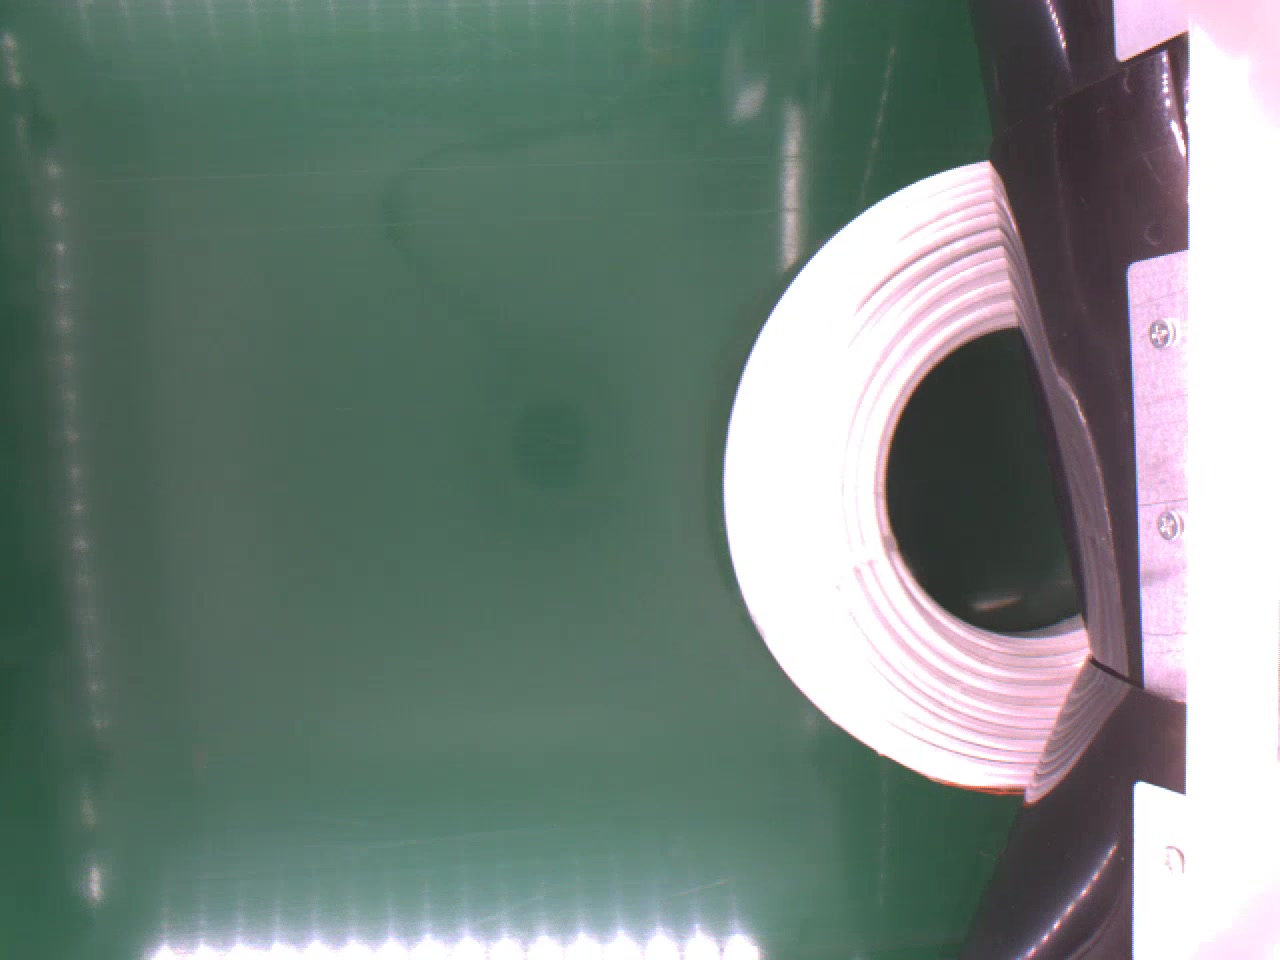white: (717, 159, 1091, 795)
